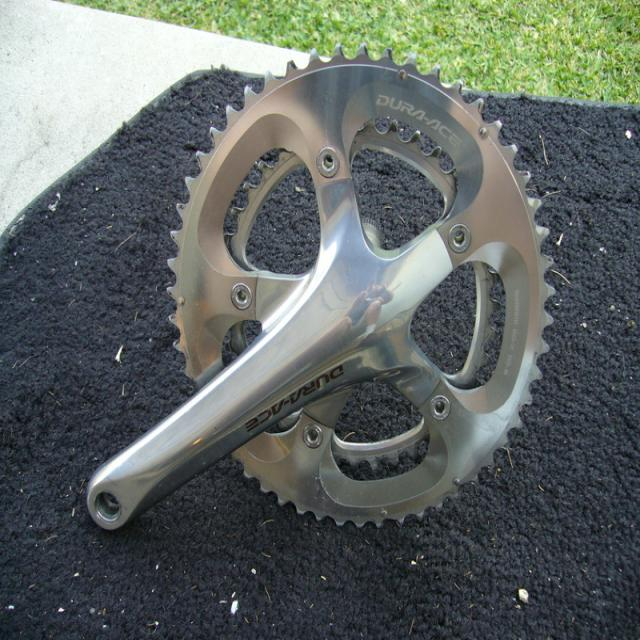screw: (191, 111, 512, 510), (317, 148, 339, 178), (448, 224, 471, 252), (232, 283, 252, 310), (430, 395, 450, 420), (304, 424, 323, 449), (479, 126, 487, 139)
